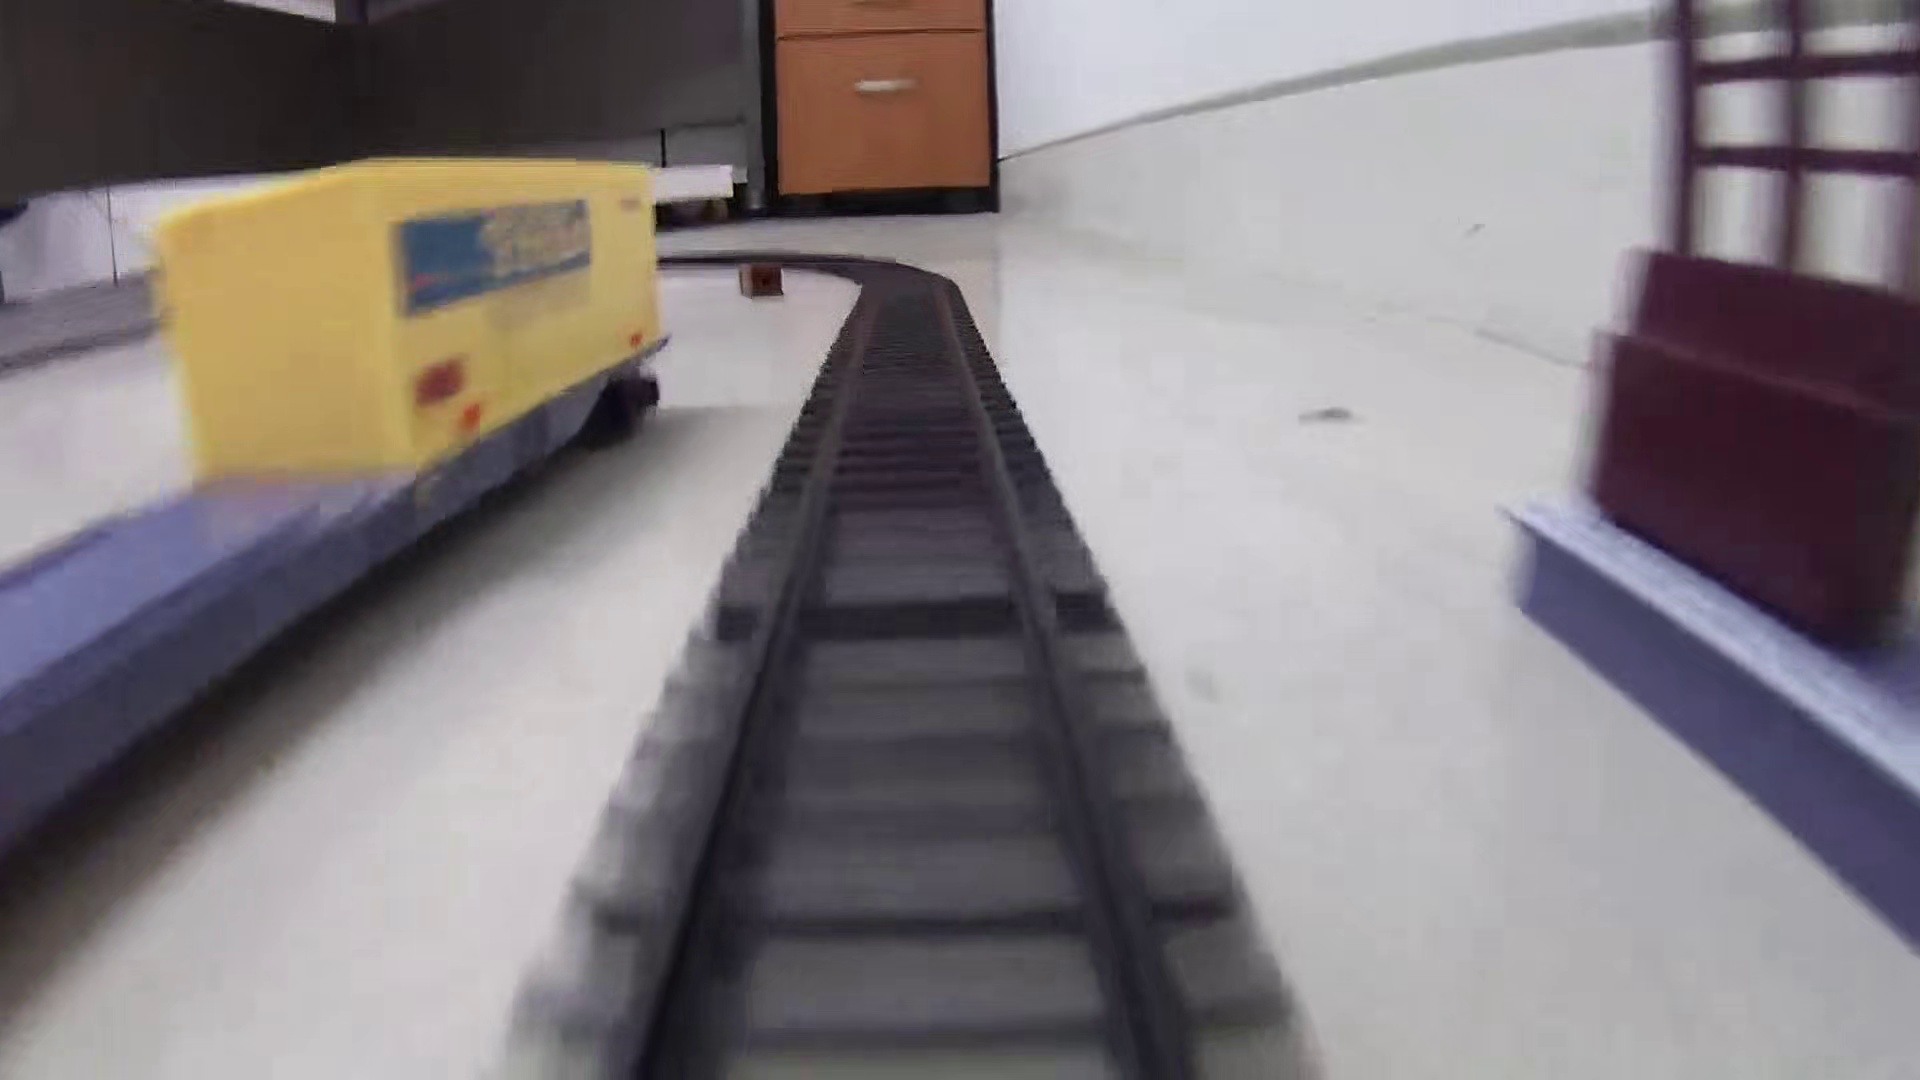box: (735, 255, 788, 301)
